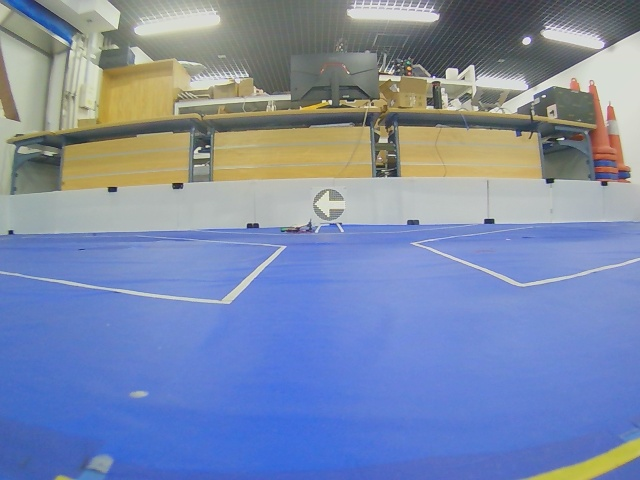left_yellow: (313, 189, 346, 221)
